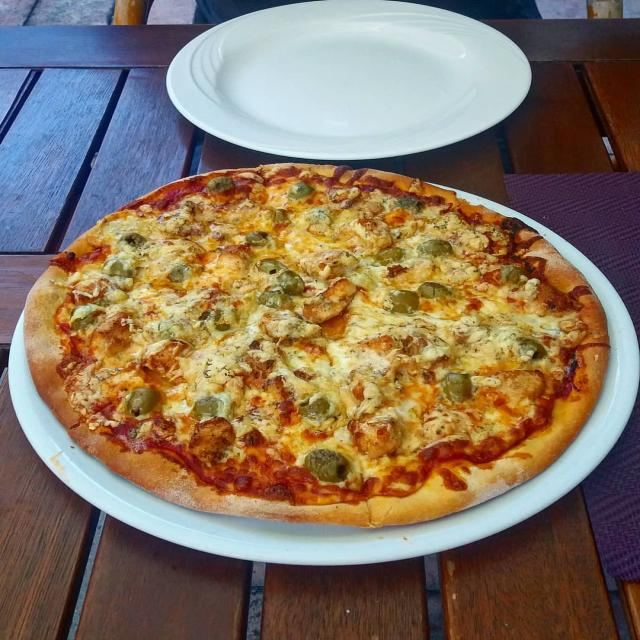green_olives: (304, 450, 351, 482), (298, 392, 335, 422), (125, 388, 160, 416), (69, 304, 103, 330), (442, 372, 471, 402), (389, 290, 420, 314), (516, 338, 548, 361), (417, 239, 453, 257), (374, 246, 405, 265), (418, 282, 452, 299), (192, 396, 219, 417), (500, 264, 527, 284), (393, 196, 424, 213), (207, 176, 235, 194), (263, 292, 292, 309), (288, 182, 314, 200), (279, 270, 298, 294), (256, 259, 286, 274), (169, 265, 192, 283), (109, 260, 132, 277), (245, 231, 269, 246), (121, 233, 147, 246)
pizza: (25, 164, 609, 525)
